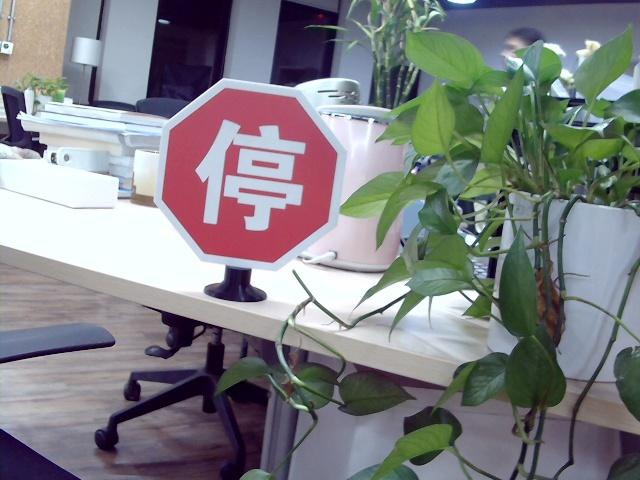stop: (198, 116, 307, 234)
